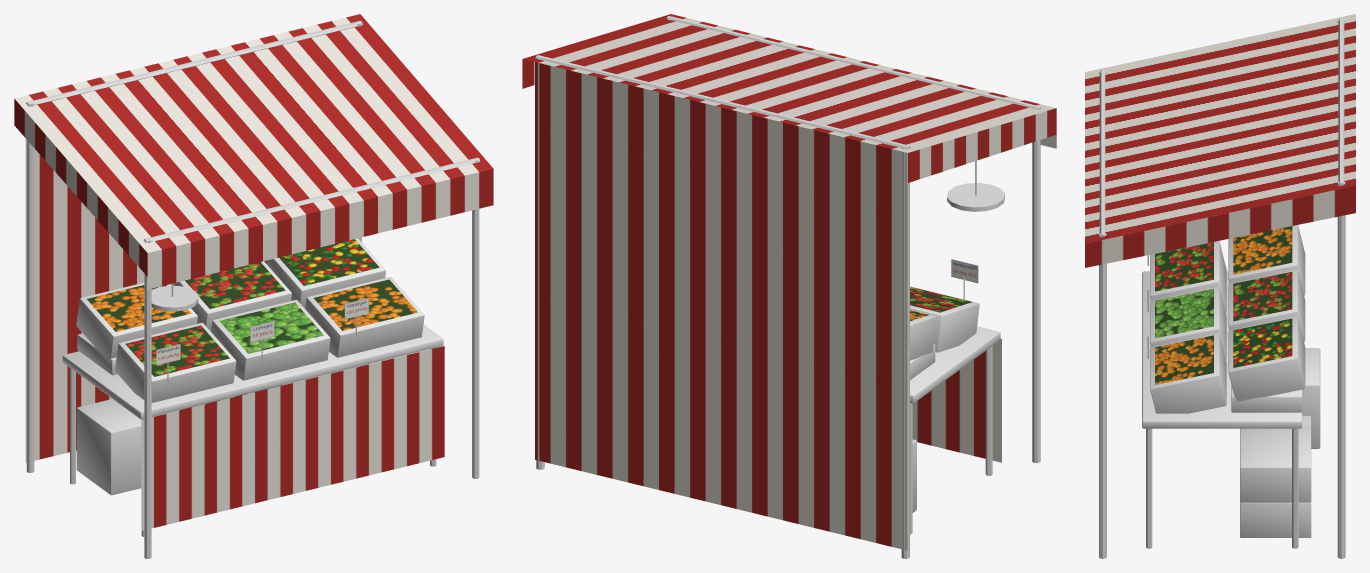
Rendered from CITY_Market_Stall_Fruta.fbx.
3 views of the same model, side by side, from view 1: azimuth 30°, elevation 25°; view 2: azimuth 150°, elevation 25°; view 3: azimuth 270°, elevation 25° (orthographic). The views are drawn at different scales.
Visible parts, largest first — view 1: CITY_Market_Stall_Fruta; view 2: CITY_Market_Stall_Fruta; view 3: CITY_Market_Stall_Fruta.
Boxes of the visible parts, left/top/right/bottom form: CITY_Market_Stall_Fruta: left=14, top=14, right=493, bottom=558; CITY_Market_Stall_Fruta: left=522, top=14, right=1056, bottom=558; CITY_Market_Stall_Fruta: left=1085, top=14, right=1355, bottom=558.
Bounding box in the file's own units: 2.28 × 2.33 × 1.52.
